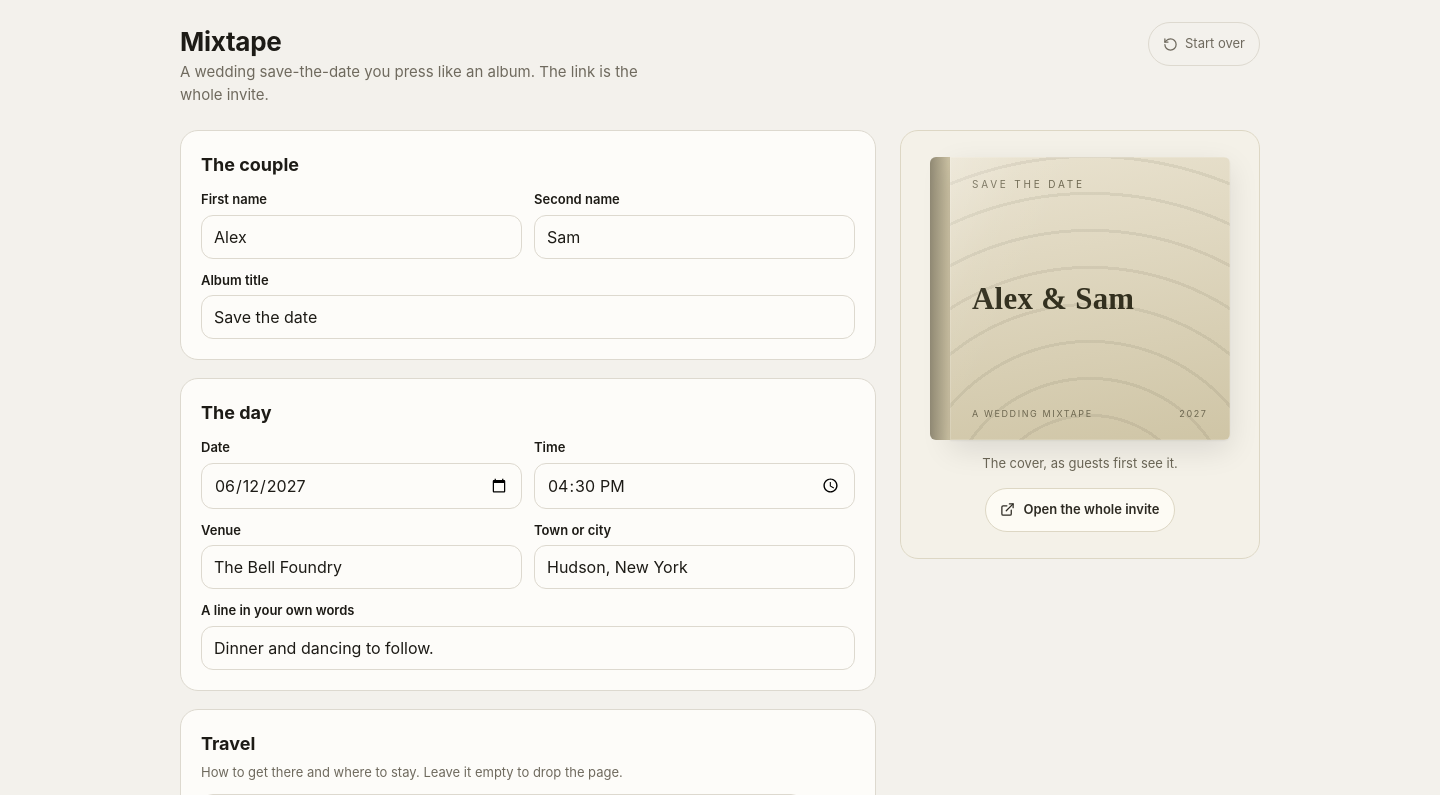
share panel › warns when the invite has no date in it yet
Expected: the text "no date in this one yet" is not shown
Clear the date field labelled "Date" at (362, 486), box [201,462,522,508]
(page scrolled)
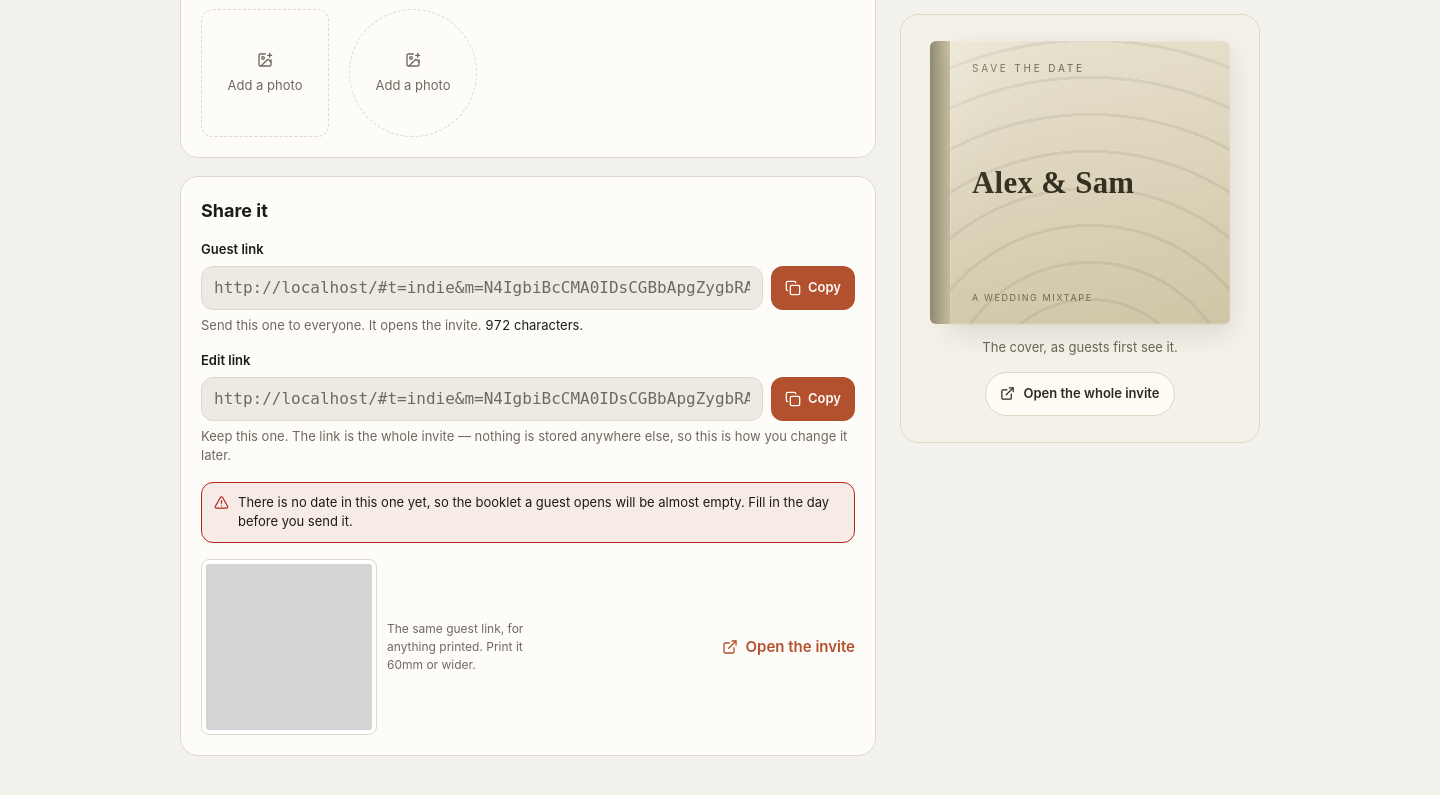
Expected: the text "no date in this one yet" is shown, [238,494,829,529]
